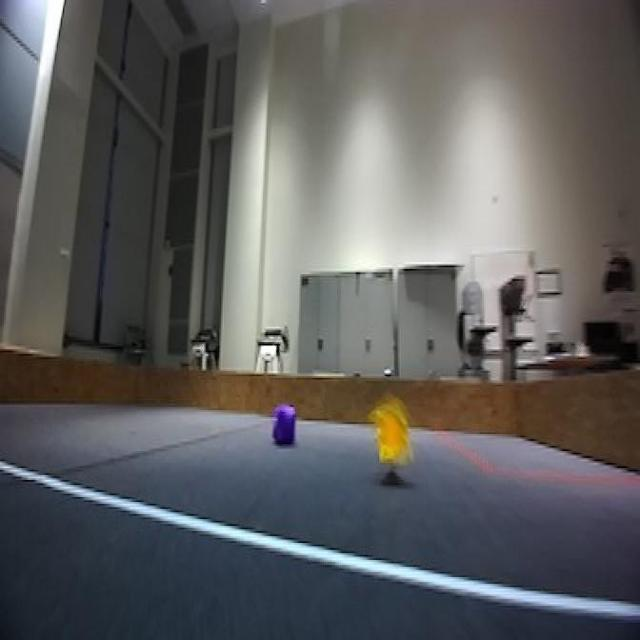frc_cone: (372, 390, 416, 475)
frc_cube: (272, 405, 298, 449)
